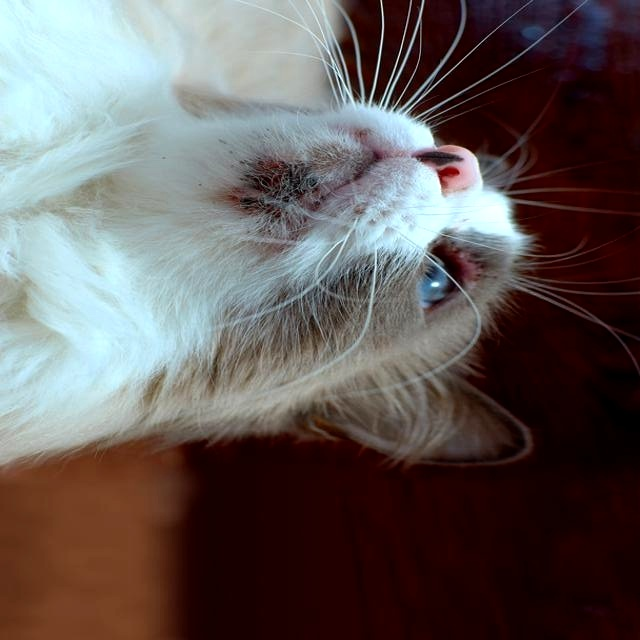acne: (228, 156, 322, 229)
